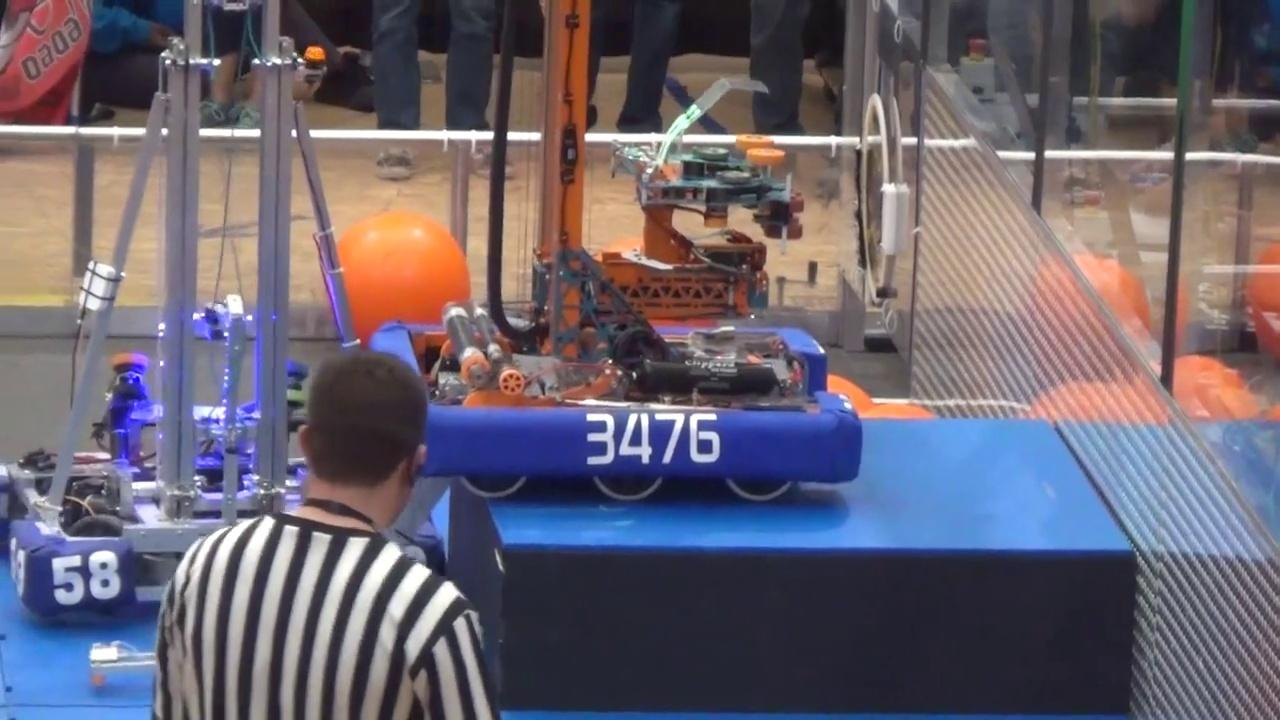robot: (0, 0, 444, 615), (408, 0, 866, 511)
